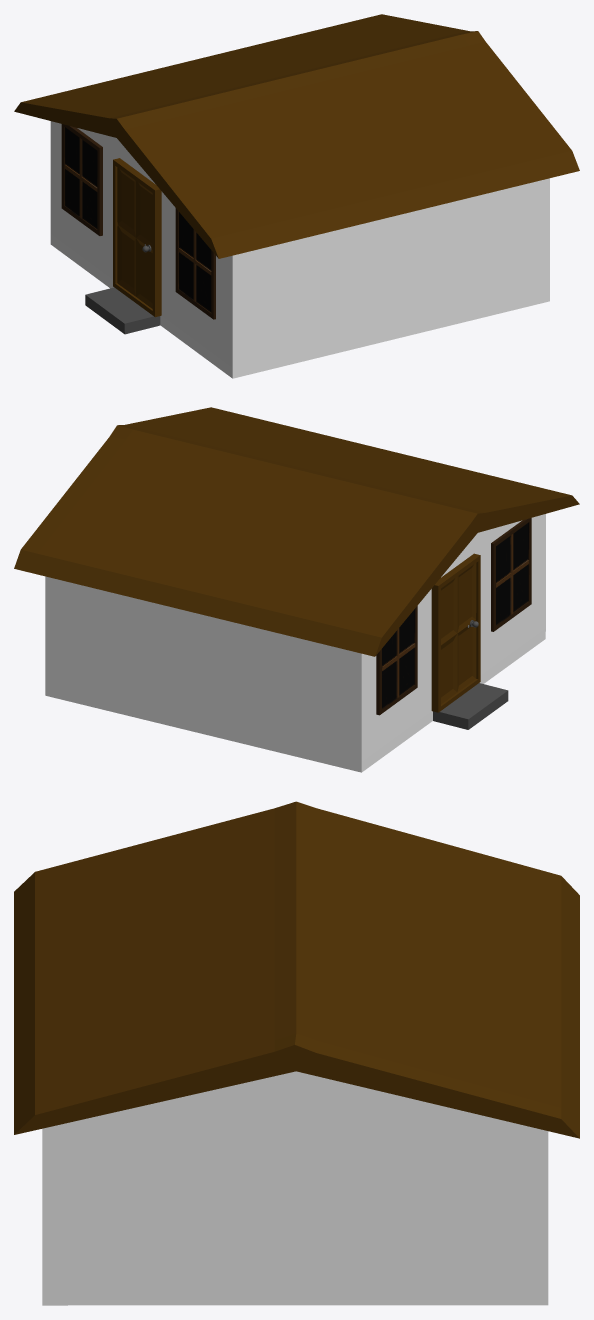
File: house1.glb
The picture shows the model from 3 angles, top to bottom: view 1: azimuth 30°, elevation 25°; view 2: azimuth 150°, elevation 25°; view 3: azimuth 270°, elevation 25°; orthographic projection. The views are drawn at different scales.
Visible parts, largest first — view 1: Cube, Plane.001, Plane.002, Cube.003, Cube.001, Cube.002, Plane; view 2: Cube, Plane.003, Plane.002, Cube.003, Cube.002, Cube.001, Plane; view 3: Cube, Plane.004.
Boxes of the visible parts, x1,y1,x2,y2 form: Cube: (14,14,579,258); Plane.001: (232,178,549,378); Plane.002: (50,121,232,378); Cube.003: (113,158,161,317); Cube.001: (61,124,102,235); Cube.002: (175,208,215,319); Plane: (85,287,160,334); Cube: (14,407,579,656); Plane.003: (45,576,361,772); Plane.002: (361,514,545,772); Cube.003: (431,553,480,712); Cube.002: (491,518,531,631); Cube.001: (376,606,417,715); Plane: (433,683,508,729); Cube: (14,801,579,1138); Plane.004: (42,1071,548,1305).
Size of the model in its own units: 44.7 by 22.81 by 42.61.
Materials: 6 (4 with a texture image).
